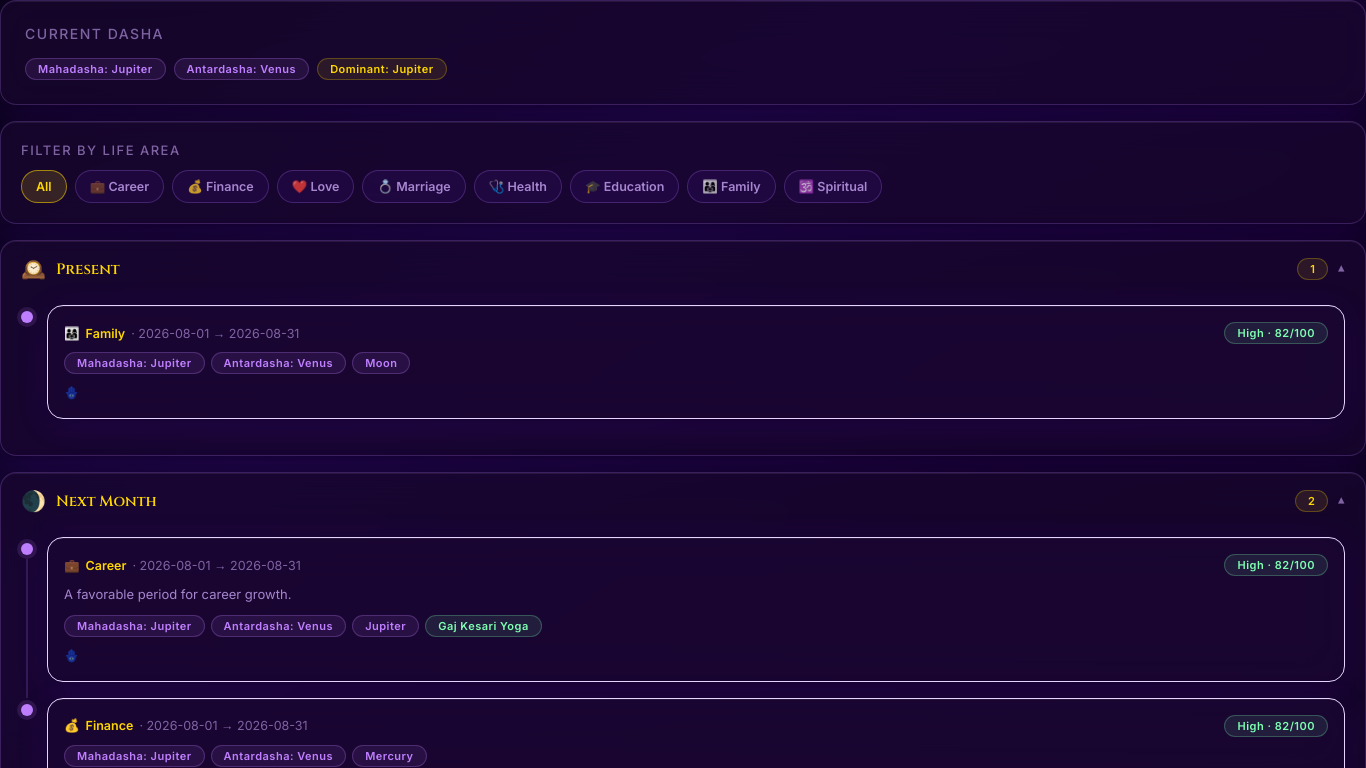
Test: TimelineTab — AI Timeline filtering › shows only events matching the selected life-area filter
The width and height of the screenshot is (1366, 768).
Expected: the text "A favorable period for career growth." is shown, x1=64 y1=586 x2=291 y2=602
Click the button "💰 Finance": (220,186) x1=172 y1=170 x2=269 y2=203
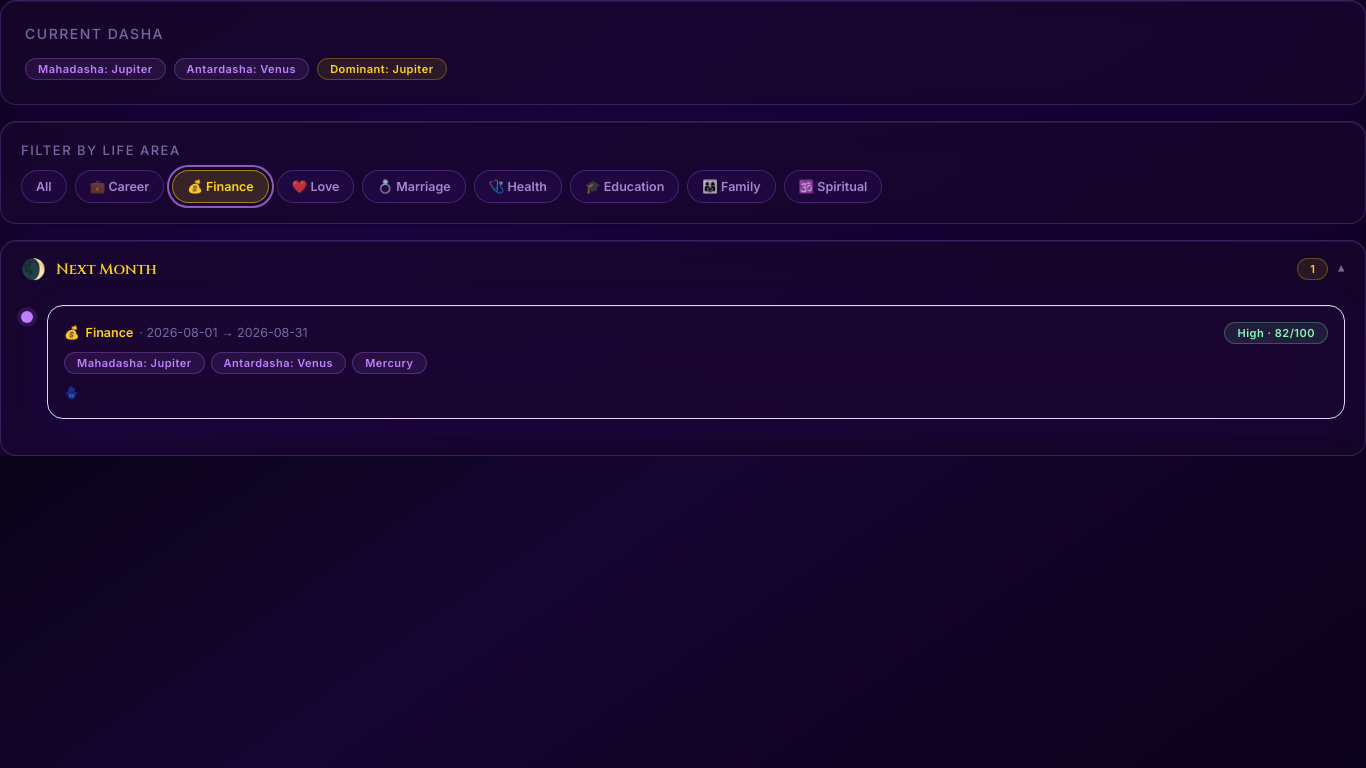
Now the button "favorable period for career growth" is gone
